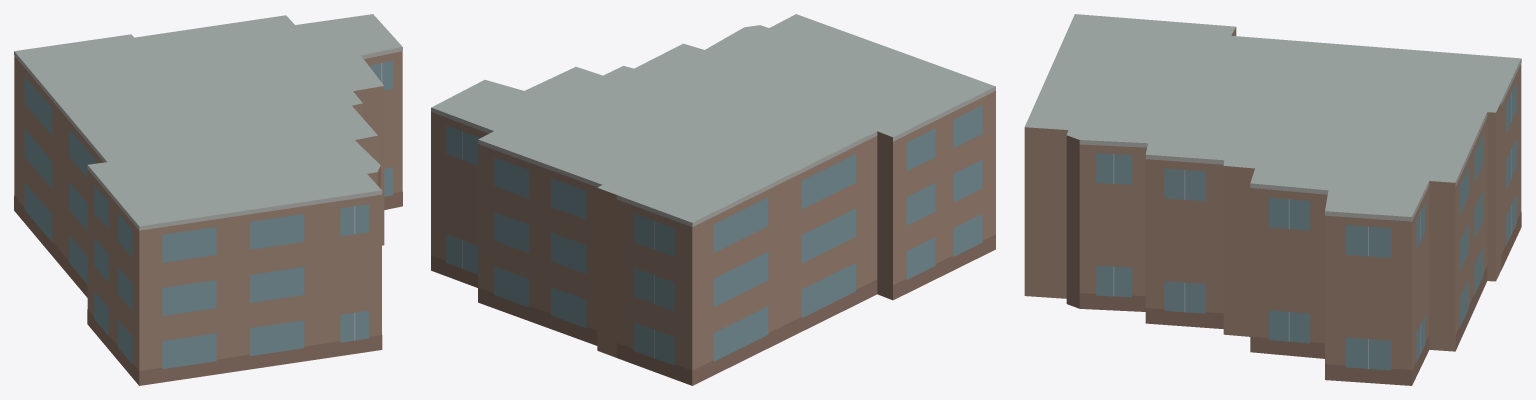
File: survey-upis-32490667.glb
3 renders of one model, left to right at view 1: azimuth 30°, elevation 25°; view 2: azimuth 150°, elevation 25°; view 3: azimuth 270°, elevation 25°, orthographic. The views are drawn at different scales.
Parts seen in each view (by area): view 1: survey-upis-32490667.tmp; view 2: survey-upis-32490667.tmp; view 3: survey-upis-32490667.tmp.
Boxes of the visible parts, x1=… form: survey-upis-32490667.tmp: x1=14, y1=14, x2=402, y2=385; survey-upis-32490667.tmp: x1=431, y1=14, x2=995, y2=385; survey-upis-32490667.tmp: x1=1024, y1=14, x2=1521, y2=385.
Size of the model in its own units: 23.61 by 9.15 by 24.42.
